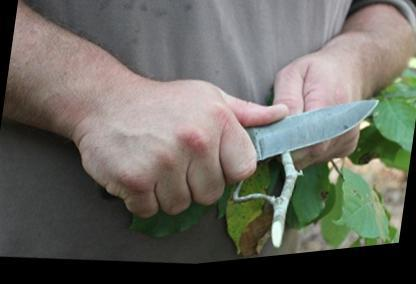knife: (154, 74, 383, 245)
